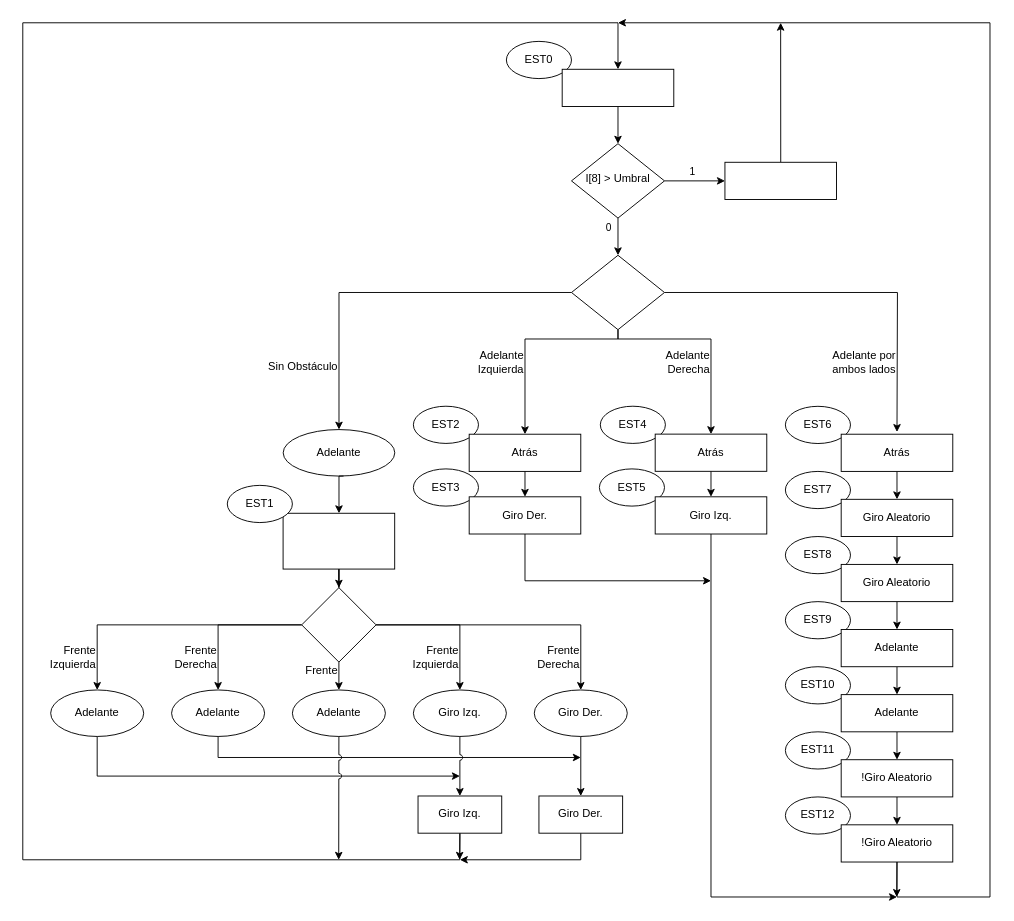
This 1014x921 diagram has some shape labels left out. Here are the shapes that lost their labels. From the top down, the box of each, then its label:
(561, 68, 674, 106): Fotoresistencias[8]
(724, 161, 837, 199): ALTO
(571, 254, 664, 330): Pos_Obs
(301, 587, 376, 662): POS_LUZ
